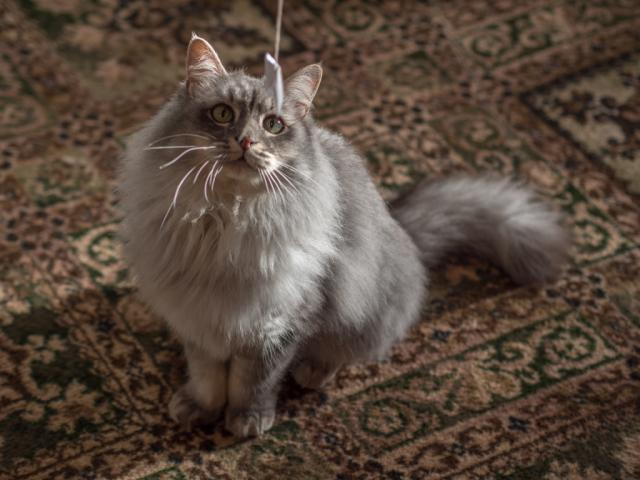Cat: (116, 32, 564, 434)
